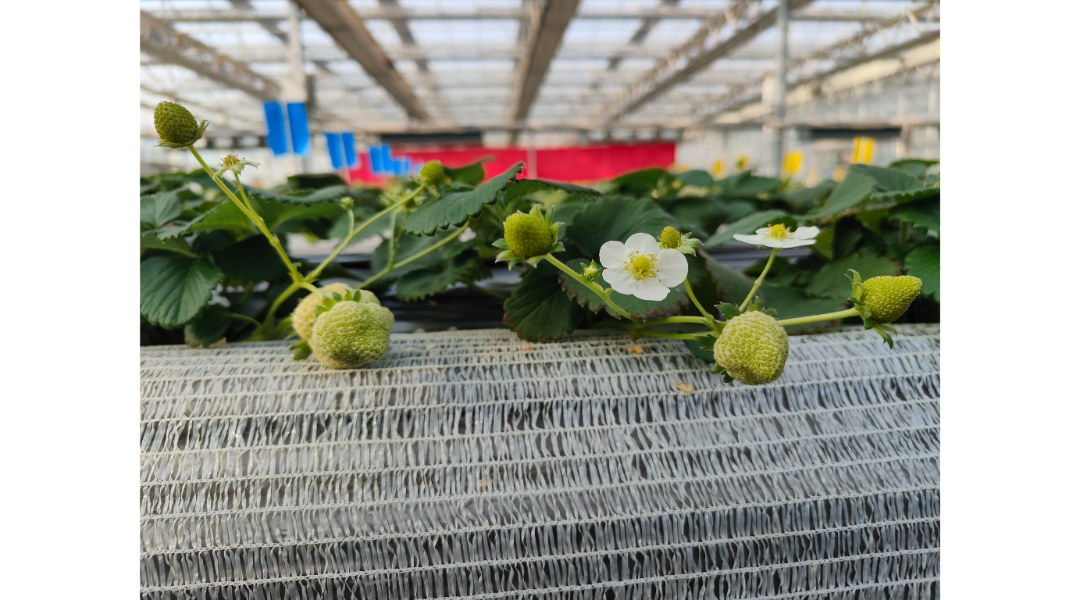berry: (711, 300, 791, 401), (841, 258, 933, 337), (306, 299, 396, 373), (288, 276, 366, 339), (494, 201, 559, 276), (143, 90, 204, 154)
flower: (591, 220, 697, 312), (722, 216, 829, 255)
strain: (357, 184, 418, 243), (195, 154, 245, 225), (396, 227, 464, 276), (259, 221, 286, 256)
